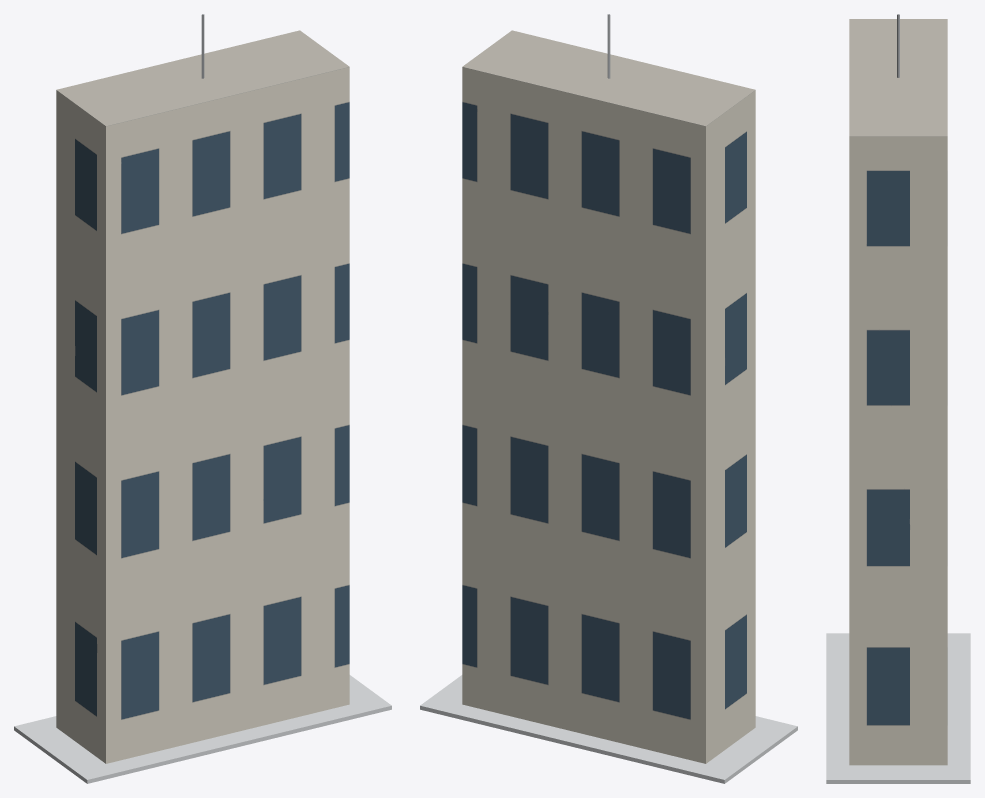
File: Area_office.glb
3 views of the same model, side by side, from view 1: azimuth 30°, elevation 25°; view 2: azimuth 150°, elevation 25°; view 3: azimuth 270°, elevation 25° (orthographic).
Visible parts, largest first — view 1: bldg_office, platform.005; view 2: bldg_office, platform.005; view 3: bldg_office, platform.005.
Part boxes in pixels (<box>): bldg_office: <box>56,30,349,763</box>; platform.005: <box>14,675,391,783</box>; bldg_office: <box>462,30,755,763</box>; platform.005: <box>420,675,797,783</box>; bldg_office: <box>849,19,947,765</box>; platform.005: <box>826,633,970,783</box>.
Size of the model in its own units: 12 by 26.55 by 5.
4 materials, 1 textured.
